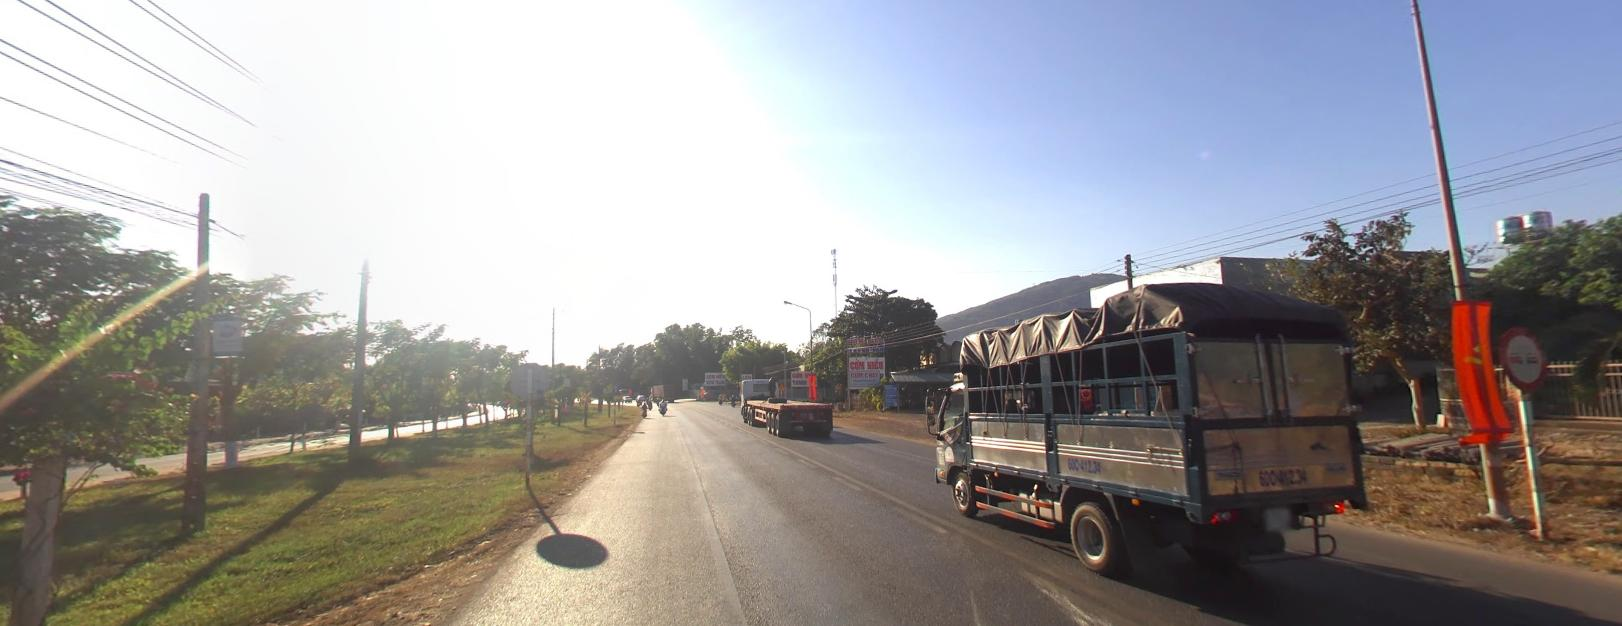Cam con lai: (1495, 319, 1548, 391)
Nguy hiem: (776, 380, 785, 390)
